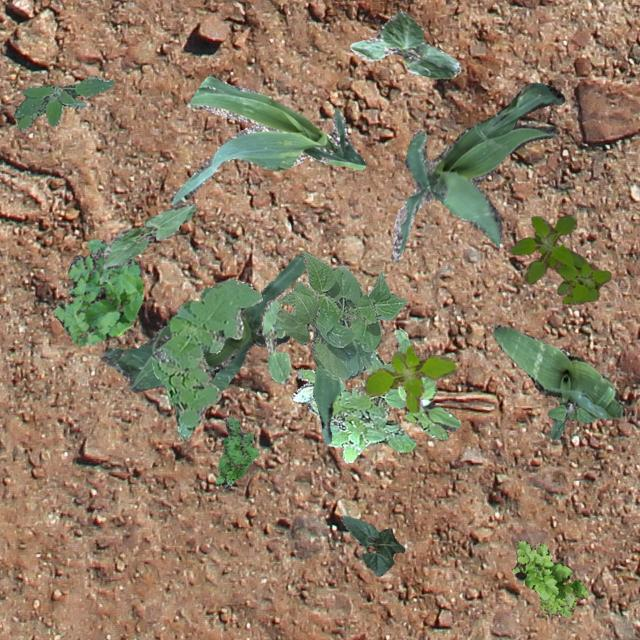crop: (391, 81, 564, 262), (100, 252, 306, 392), (170, 72, 364, 204), (276, 250, 406, 378), (492, 324, 624, 416), (272, 320, 340, 442), (350, 8, 460, 78), (102, 202, 195, 268), (339, 514, 404, 576), (260, 298, 290, 382)
weed: (292, 327, 448, 462), (150, 276, 262, 438), (54, 238, 142, 344), (510, 214, 610, 304), (362, 344, 456, 412), (511, 540, 586, 616), (12, 74, 112, 130), (396, 376, 461, 430), (215, 414, 258, 488), (546, 396, 596, 440)
